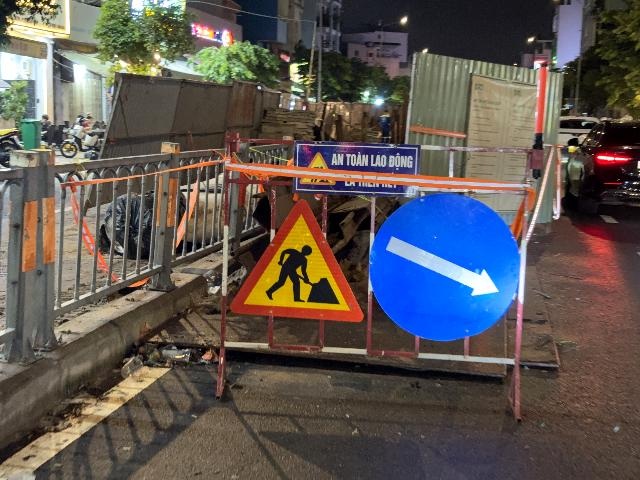cong-truong-dang-thi-cong: (230, 198, 364, 322)
huong-phai-di-vong-chuong-ngai-vat: (370, 192, 522, 343)
